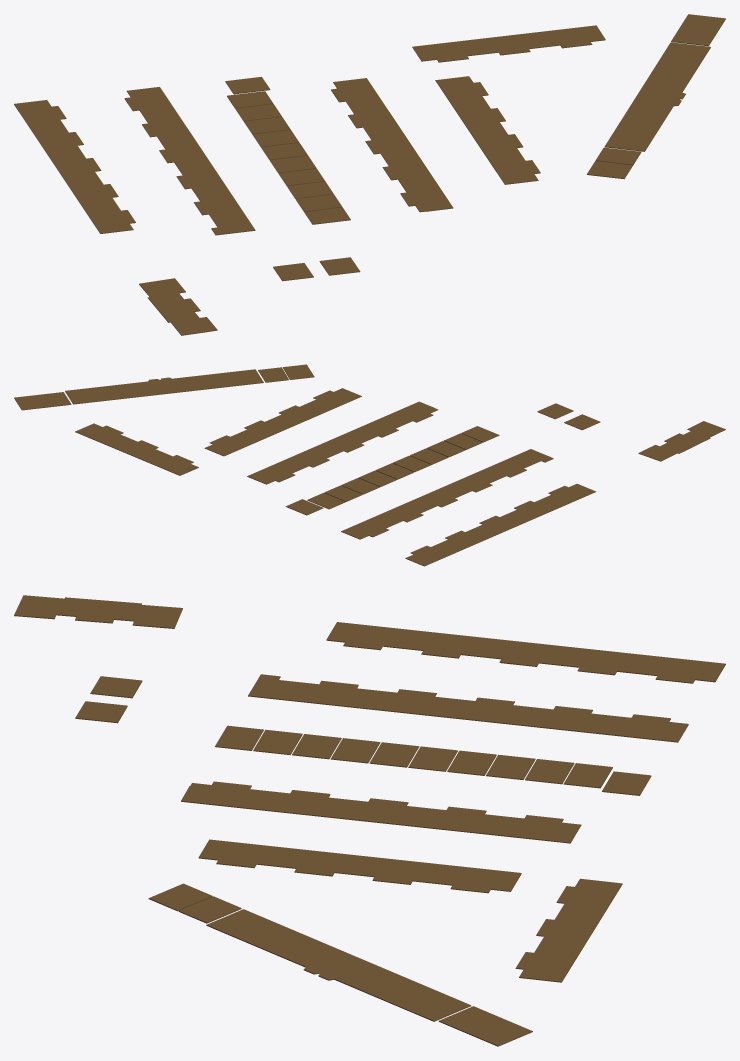
File: pgc_n_tussenvloer.glb
3 views of the same model, one above another, from view 1: azimuth 30°, elevation 25°; view 2: azimuth 150°, elevation 25°; view 3: azimuth 270°, elevation 25° (orthographic). The views are drawn at different scales.
Parts seen in each view (by area): view 1: Floor Nieuwe tussenvloer 3 cm schapenwol [995375]; view 2: Floor Nieuwe tussenvloer 3 cm schapenwol [995375]; view 3: Floor Nieuwe tussenvloer 3 cm schapenwol [995375].
Boxes of the visible parts, x1,y1,x2,y2 form: Floor Nieuwe tussenvloer 3 cm schapenwol [995375]: [14, 14, 725, 335]; Floor Nieuwe tussenvloer 3 cm schapenwol [995375]: [14, 364, 725, 566]; Floor Nieuwe tussenvloer 3 cm schapenwol [995375]: [14, 595, 725, 1046].
Size of the model in its own units: 209 by 0.2 by 140.
